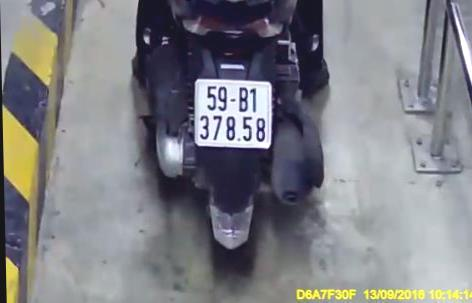License_Plate: (188, 74, 278, 154)
